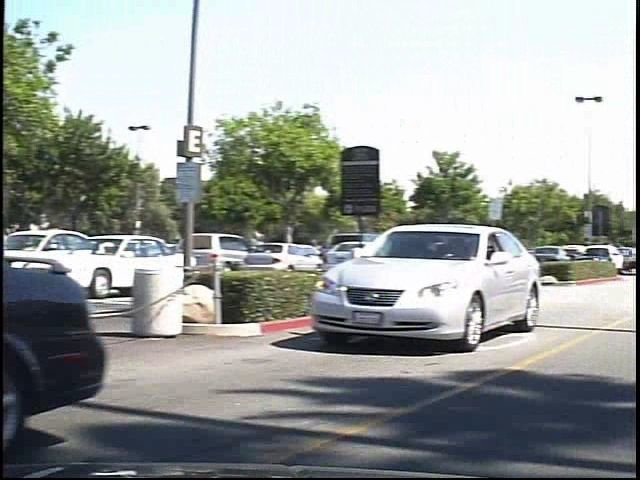person: (252, 222, 279, 273)
